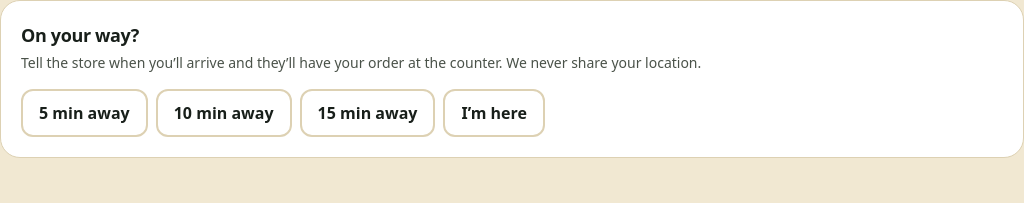
Test: <ArrivalPanel /> › shows the server's reason when sharing is refused
Click the button "10 min away": point(224, 113) x1=156 y1=89 x2=292 y2=137
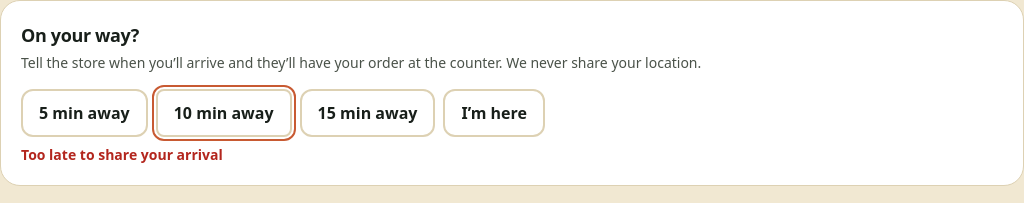
Check: the message reads "Too late to share your arrival", box x1=21 y1=145 x2=223 y2=164
